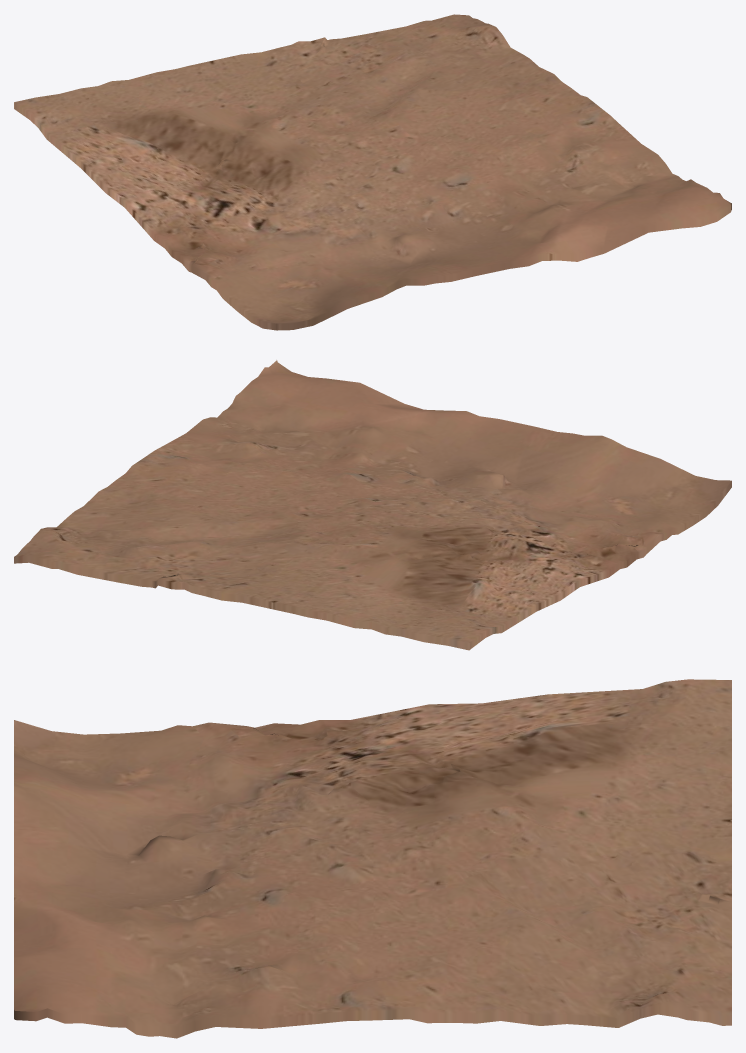
3 renders of one model, top to bottom at view 1: azimuth 30°, elevation 25°; view 2: azimuth 150°, elevation 25°; view 3: azimuth 270°, elevation 25°, orthographic. The views are drawn at different scales.
Size of the model in its own units: 4 by 0.396 by 4.
Materials: 1 (1 with a texture image).
